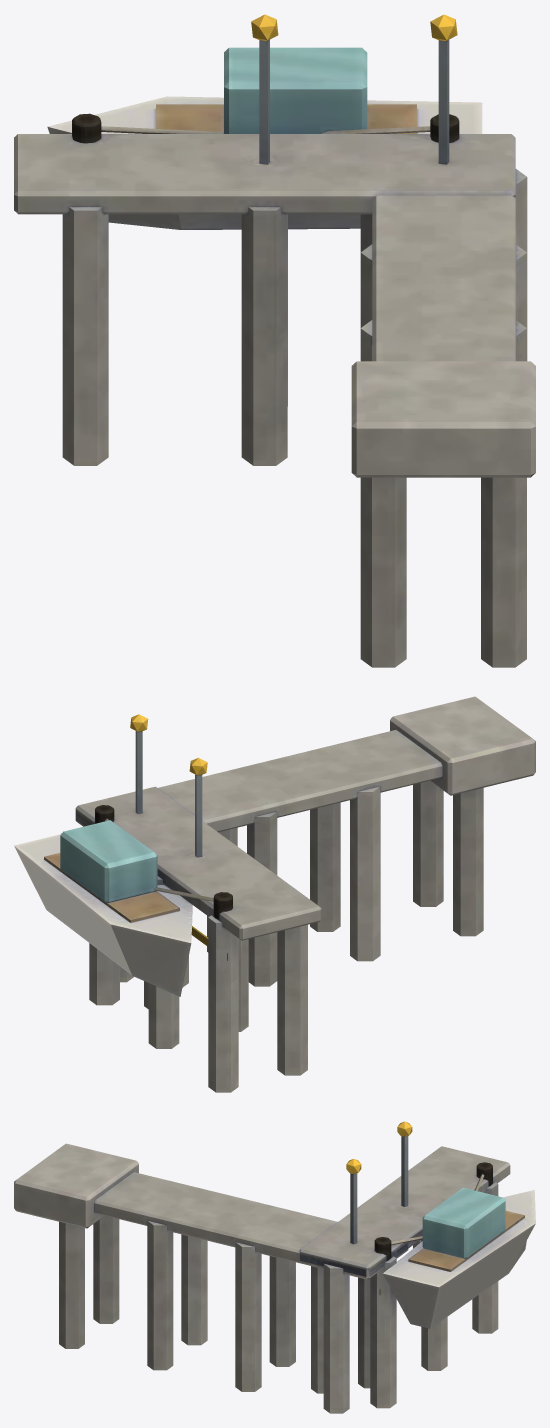
File: harbor-pier-30.glb
The picture shows the model from 3 angles, top to bottom: view 1: azimuth 30°, elevation 25°; view 2: azimuth 150°, elevation 25°; view 3: azimuth 270°, elevation 25°; orthographic projection. The views are drawn at different scales.
Parts seen in each view (by area): view 1: harbor-pier-30; view 2: harbor-pier-30; view 3: harbor-pier-30.
Boxes of the visible parts, x1,y1,x2,y2 form: harbor-pier-30: (14,14,535,667); harbor-pier-30: (14,696,535,1092); harbor-pier-30: (14,1121,535,1413).
Size of the model in its own units: 1.05 by 0.9 by 1.79.
1 material, 1 textured.
